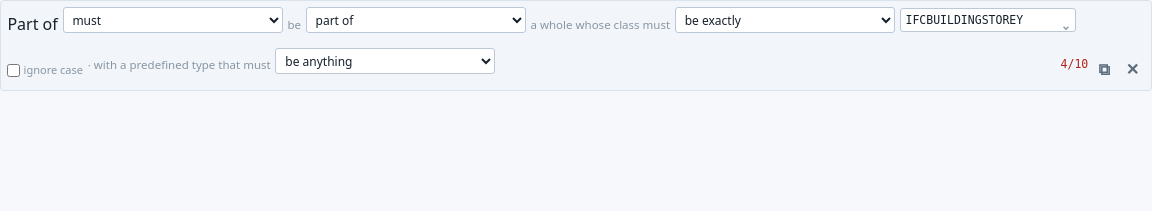
Scenario: PartOfRow › reports an empty enumeration, which XSD would read as accepting anything
Select "be one of" in the dropdown named "Class operator": (785, 20) [675,7,895,33]
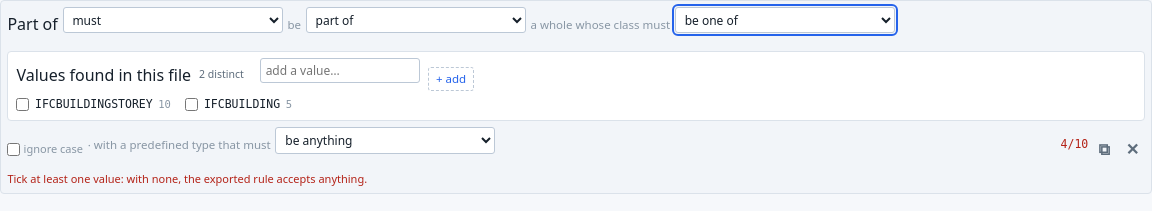
expect the text "Tick at least one value" is shown: met, box [7,171,367,186]
